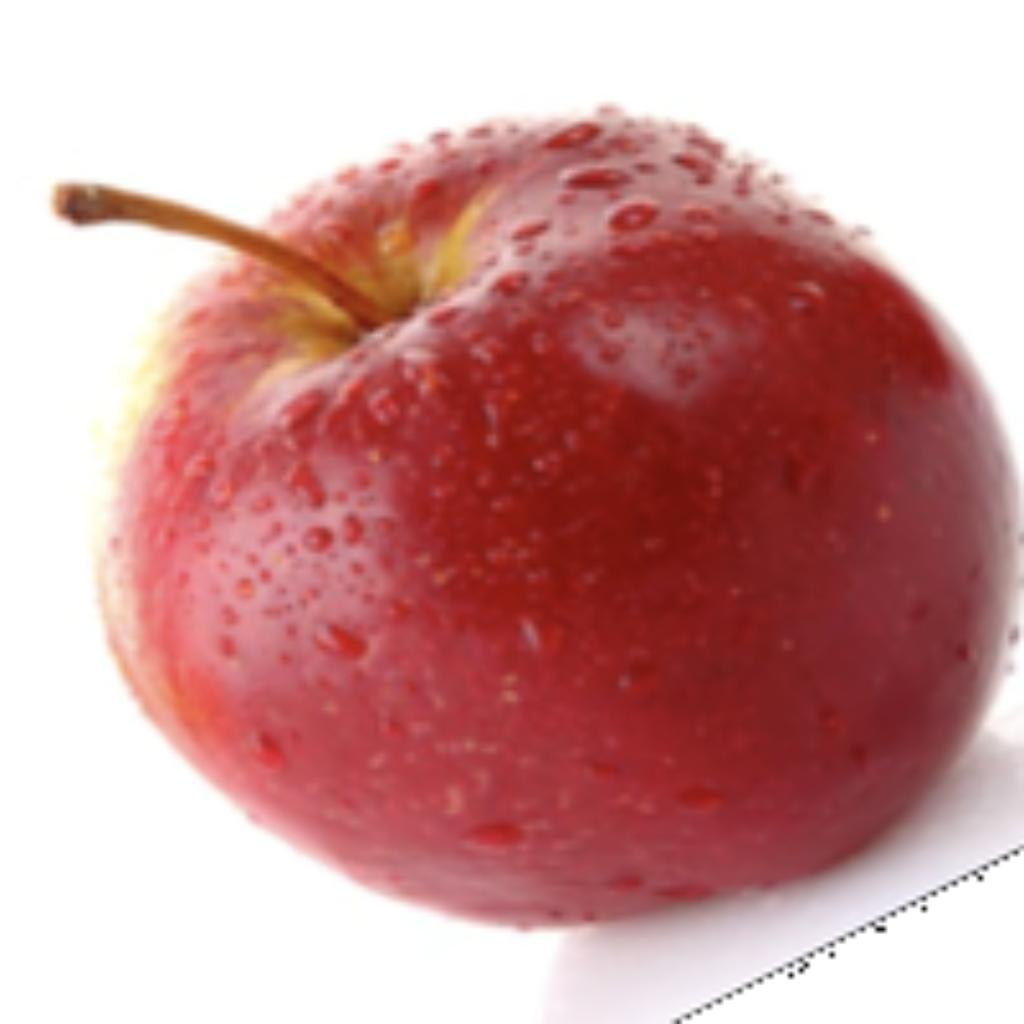apple: (41, 97, 1019, 1019)
